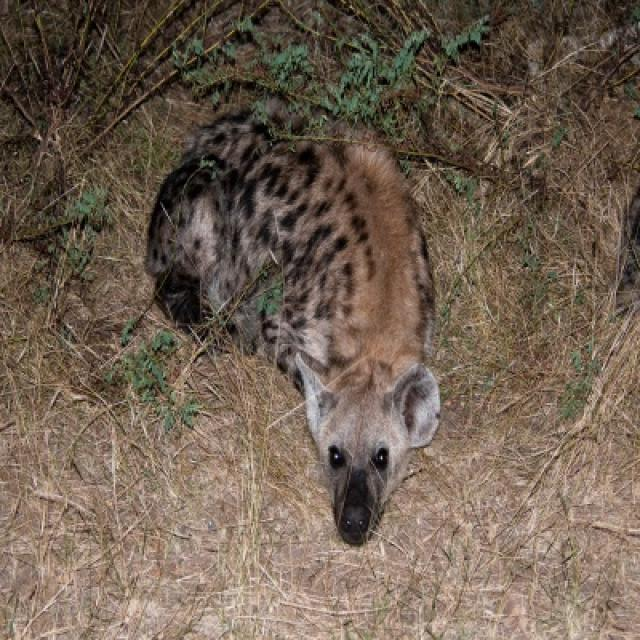hyena: (144, 120, 440, 549)
